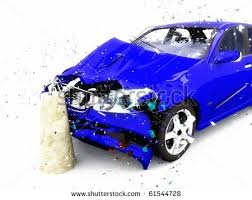Broken-glass: (138, 28, 213, 59)
Smashed: (42, 52, 160, 159)
